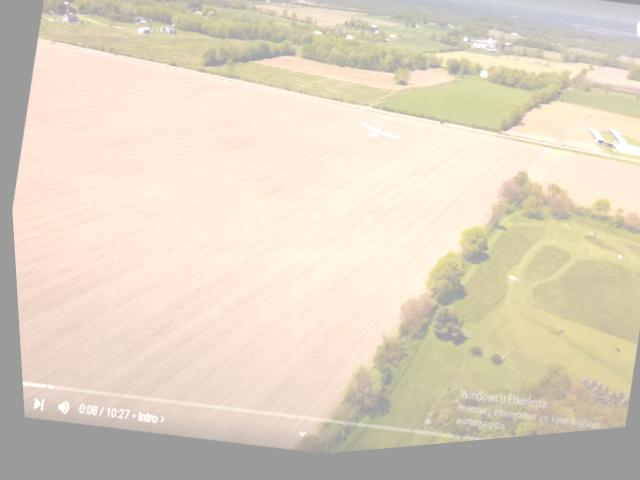plane: (356, 125, 399, 152)
